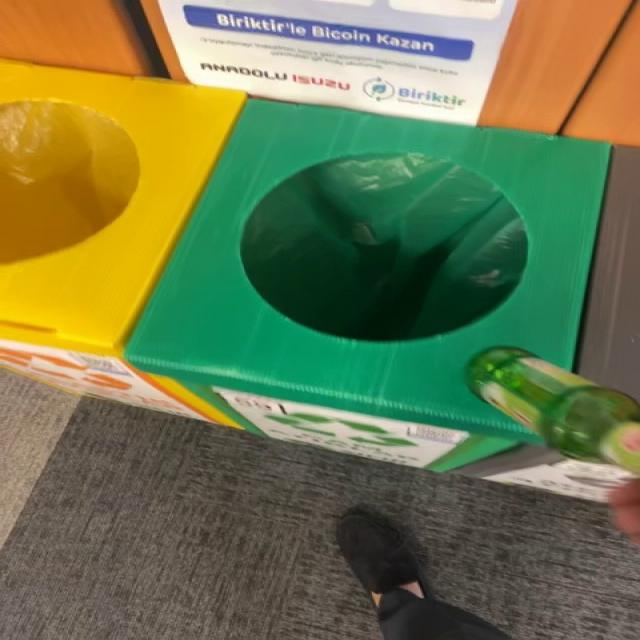glass: (468, 348, 640, 474)
